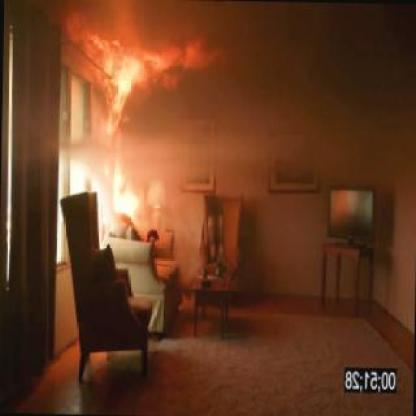Fire: (65, 0, 224, 147), (104, 170, 139, 224)
